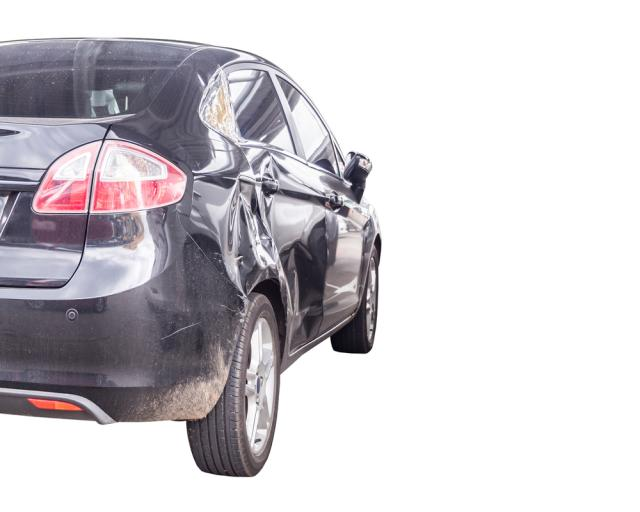dent: (223, 154, 323, 351)
